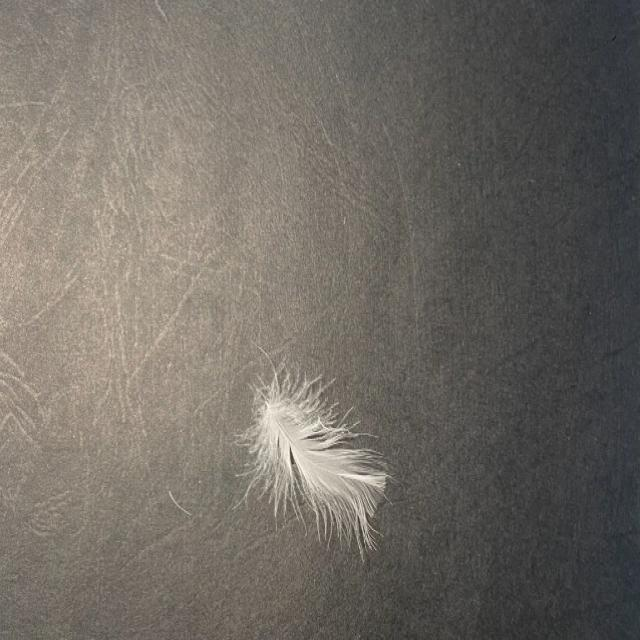feather: (218, 345, 393, 555)
